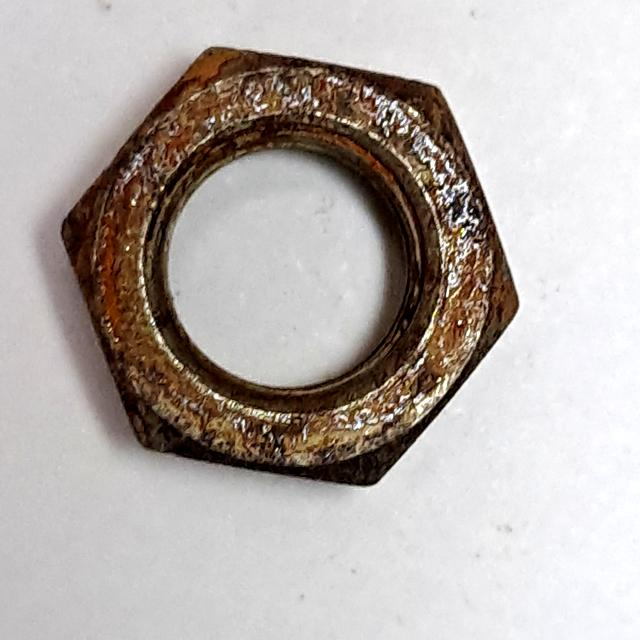Rust: (51, 36, 530, 500)
